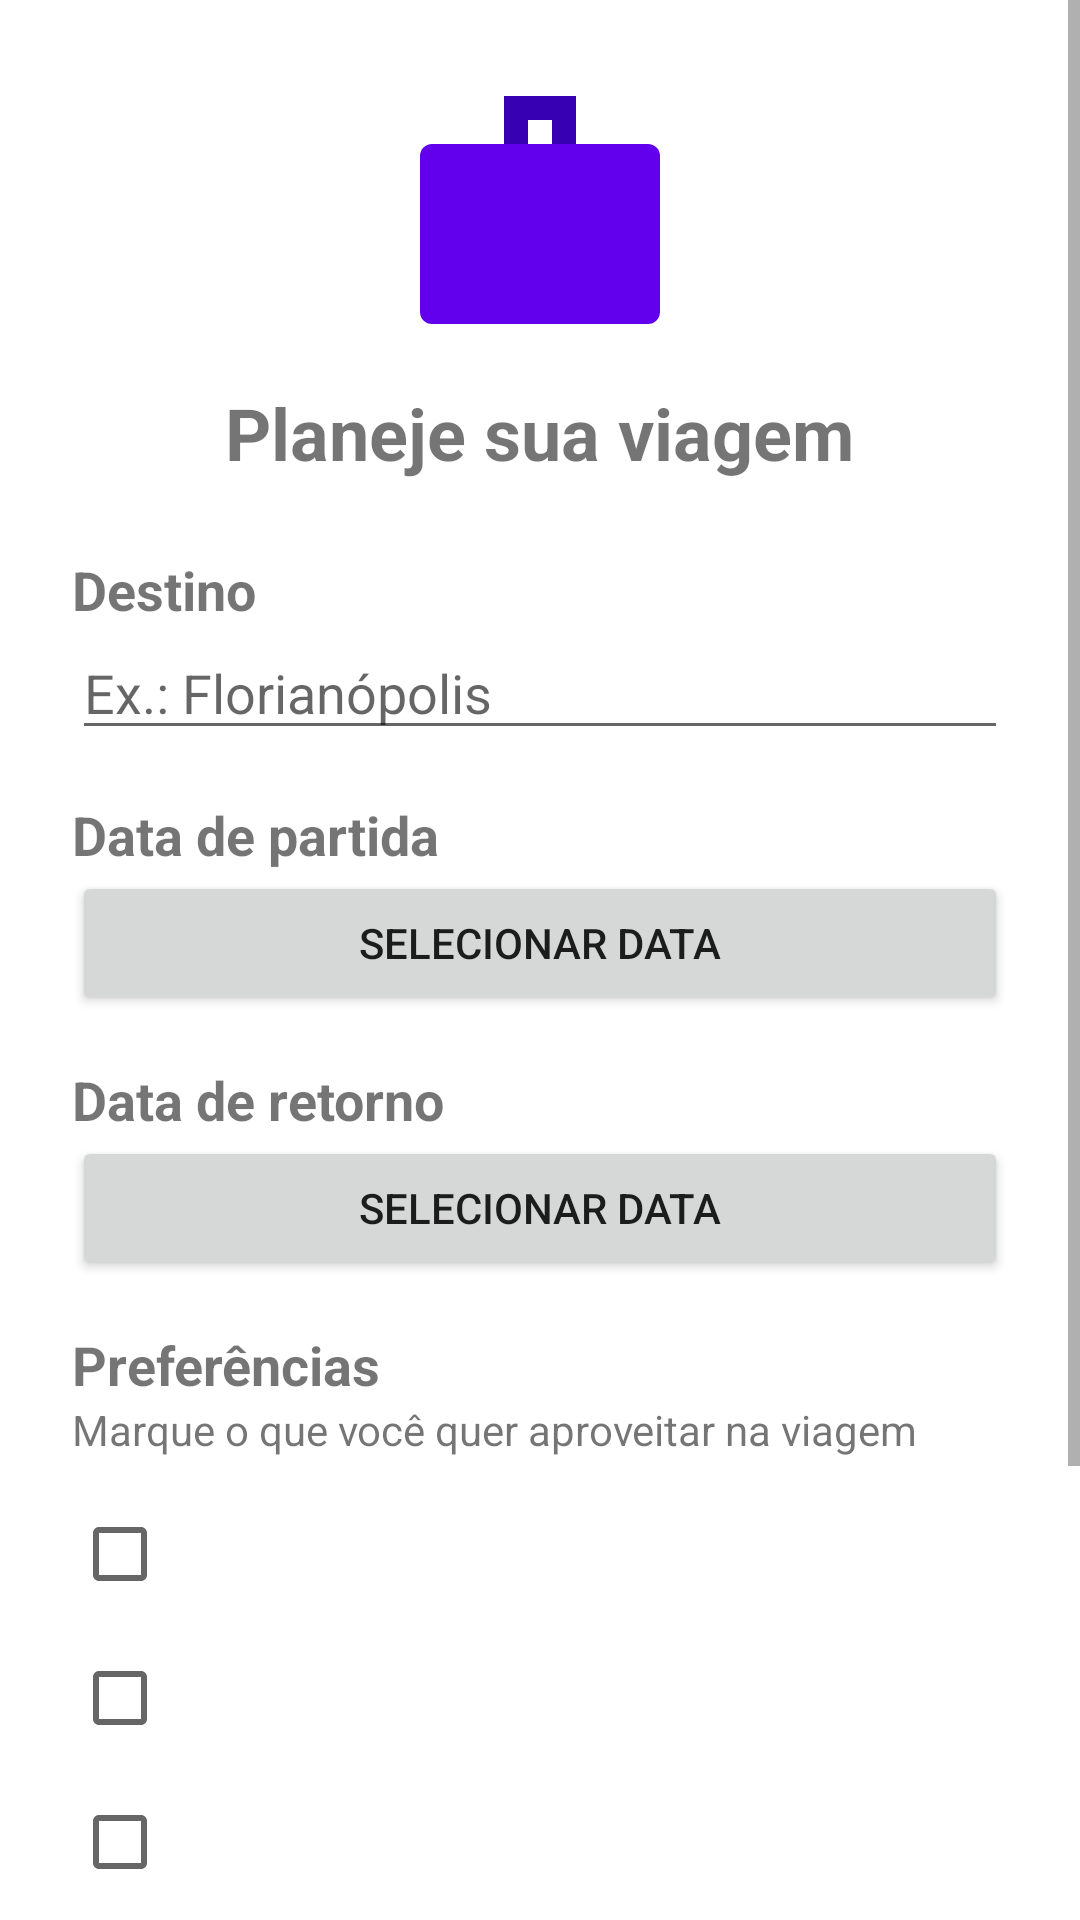

Icons on this 1080px x 1920px Android screen, each with the point to tap as (x,y):
Ilustração de uma mala de viagem: (540,210)
